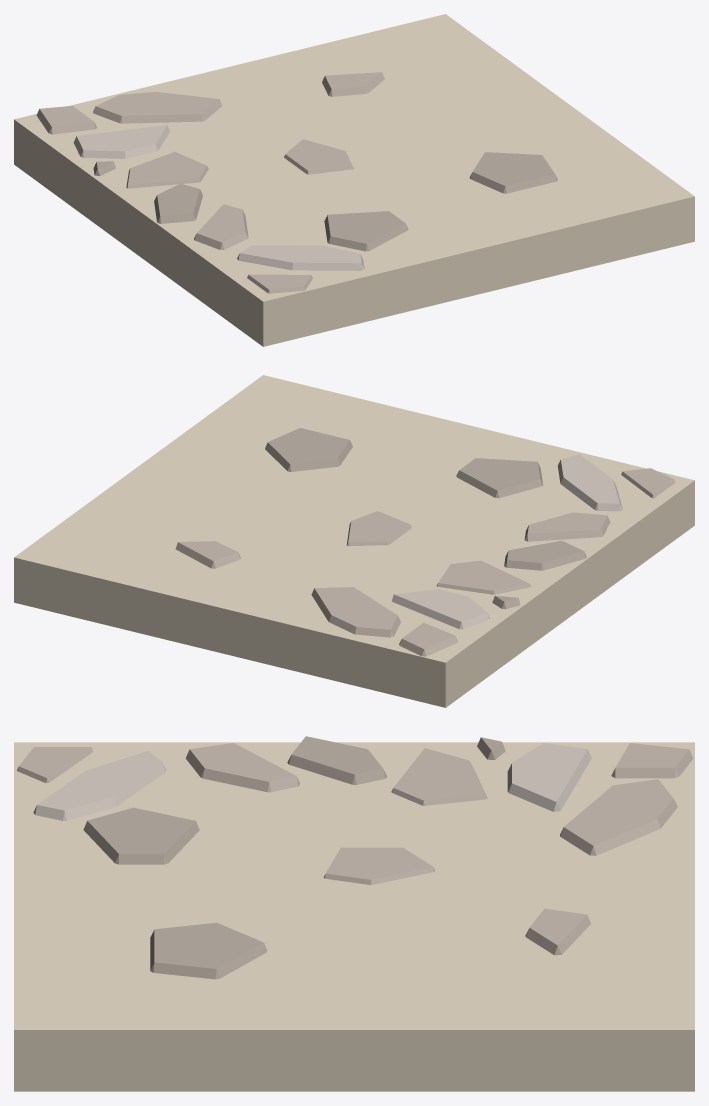
Rendered from Cobblestone_Dirt_Transition_1.glb.
3 renders of one model, top to bottom at view 1: azimuth 30°, elevation 25°; view 2: azimuth 150°, elevation 25°; view 3: azimuth 270°, elevation 25°, orthographic. The views are drawn at different scales.
Parts seen in each view (by area): view 1: object1; view 2: object1; view 3: object1.
Part boxes in pixels (box(x1,y1,x2,y2)): object1: box(14, 14, 694, 346); object1: box(14, 375, 694, 707); object1: box(14, 736, 694, 1091).
Size of the model in its own units: 2 by 0.2281 by 2.
